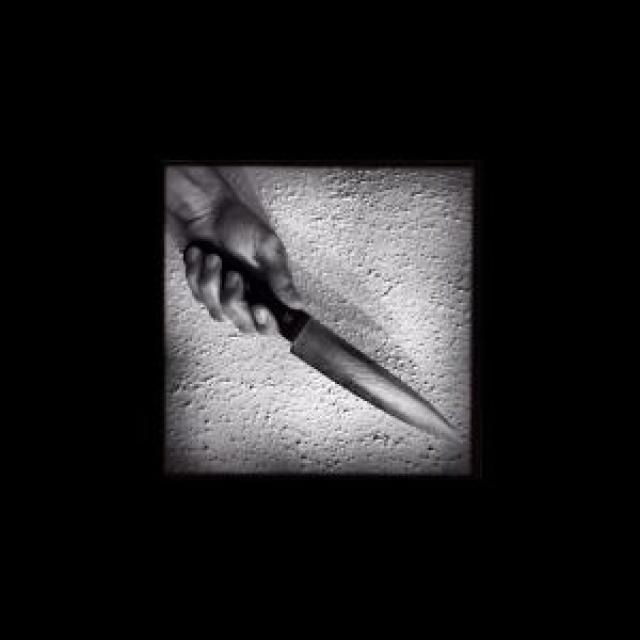knife: (183, 232, 462, 453)
